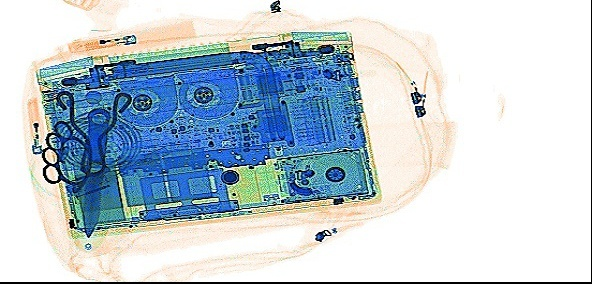knife: (72, 106, 110, 237)
lighter: (63, 27, 140, 53), (22, 96, 42, 154)
slingshot: (52, 89, 132, 174)
